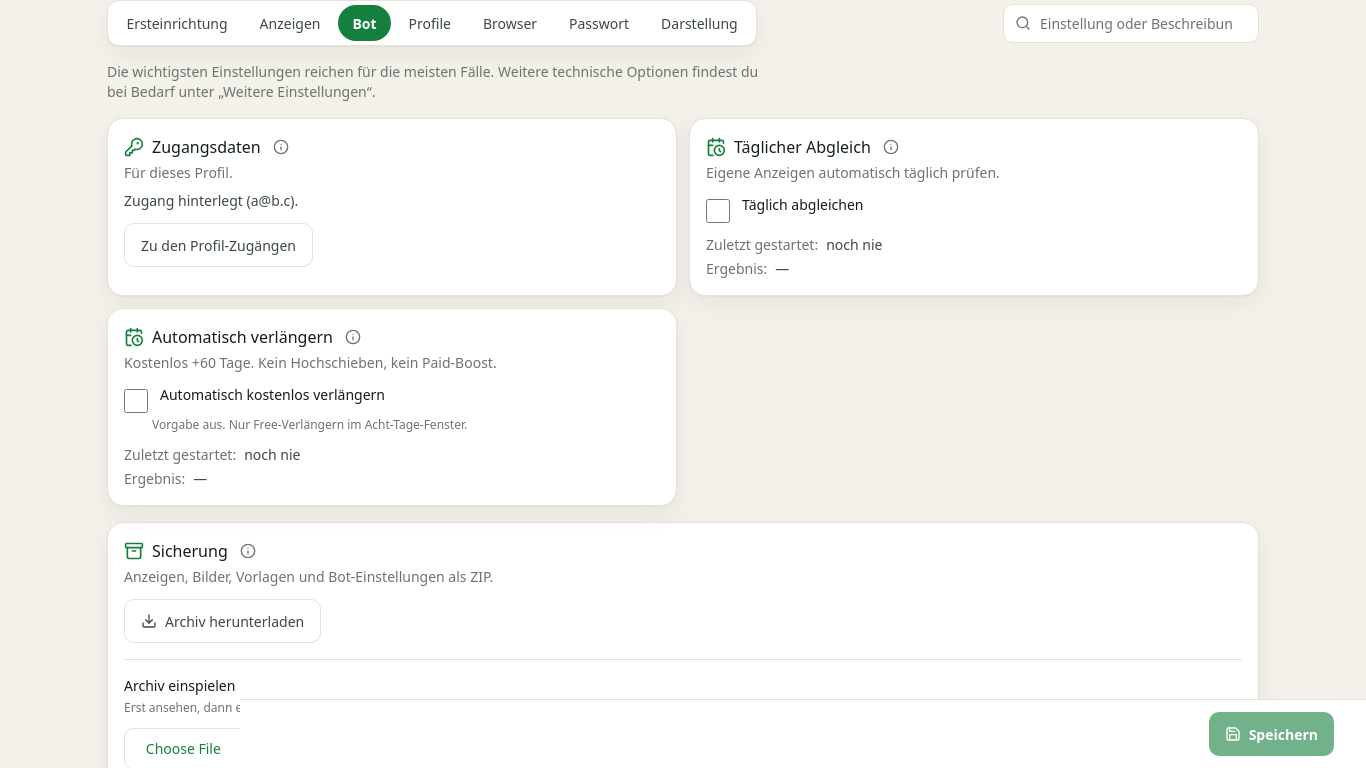
Test case: EinstellungenSeite AP-2.47 › filtert Gruppen und Felder über die Reiter-Suche
The width and height of the screenshot is (1366, 768).
Expected: the navigation bar named "Einstellungsbereiche" is shown, [107,0,757,46]
Type "Zeitgrenze" into the search field with placeholder "Einstellung oder Beschreibung suchen" at (1131, 23), box [1003,4,1259,42]
(page scrolled)
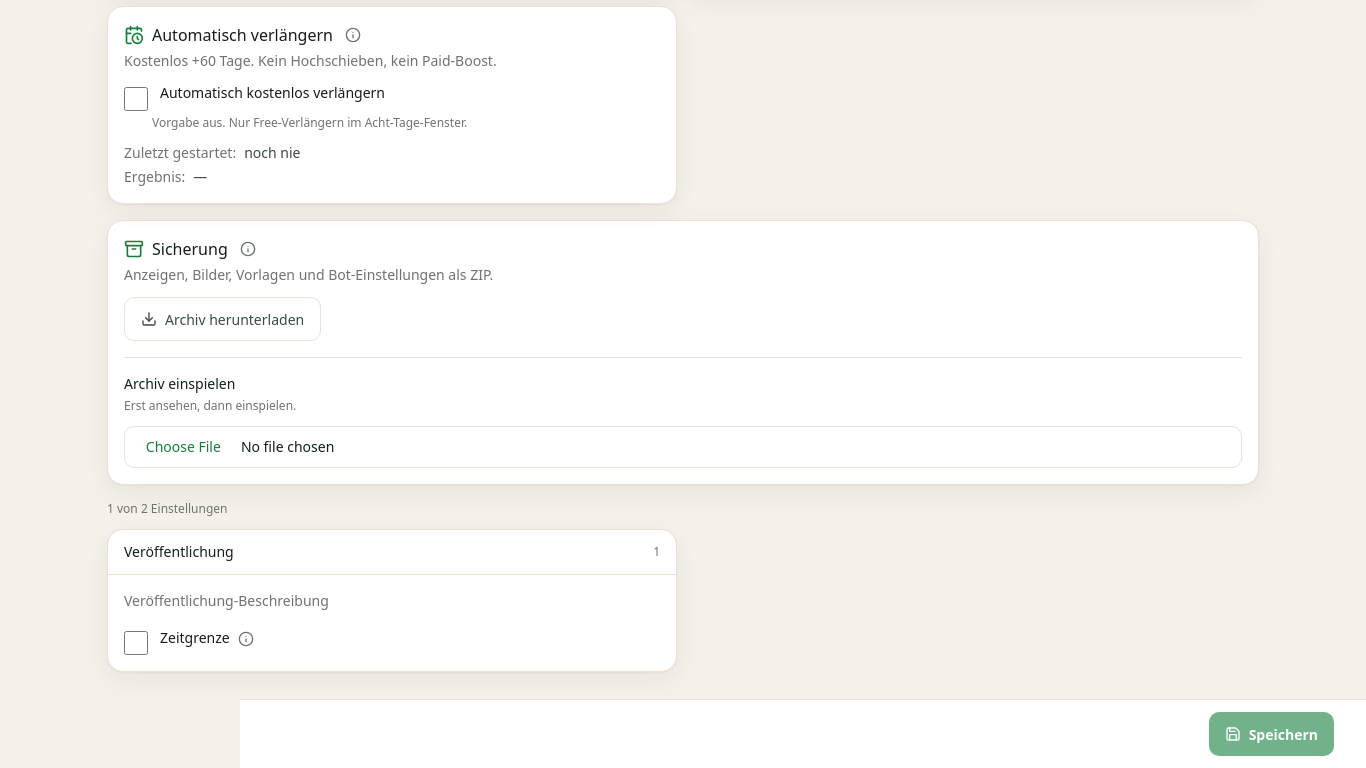
Now the text "Zeitgrenze" is shown, box [160,627,258,651]
